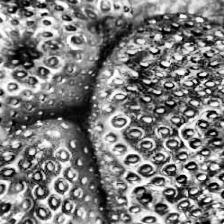Anthracnose Fruit Rot: (112, 13, 224, 224), (0, 38, 46, 74), (0, 184, 37, 224)
